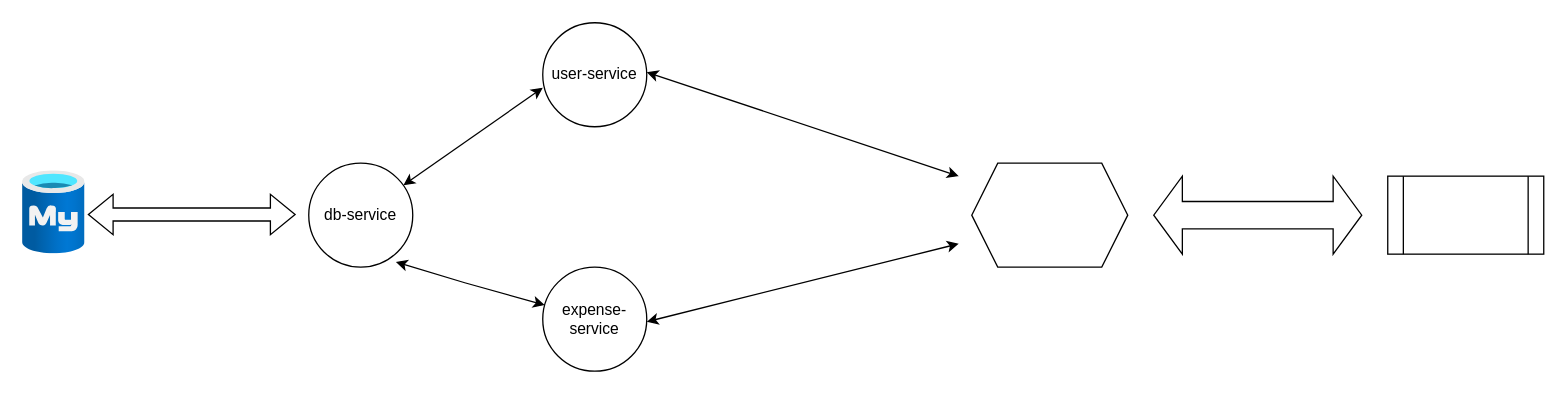
This 1567x394 diagram has some shape labels left out. Each missing label, with the box of its shape:
api-gateway: (970, 162, 1128, 267)
Vue FE: (1386, 175, 1544, 254)
